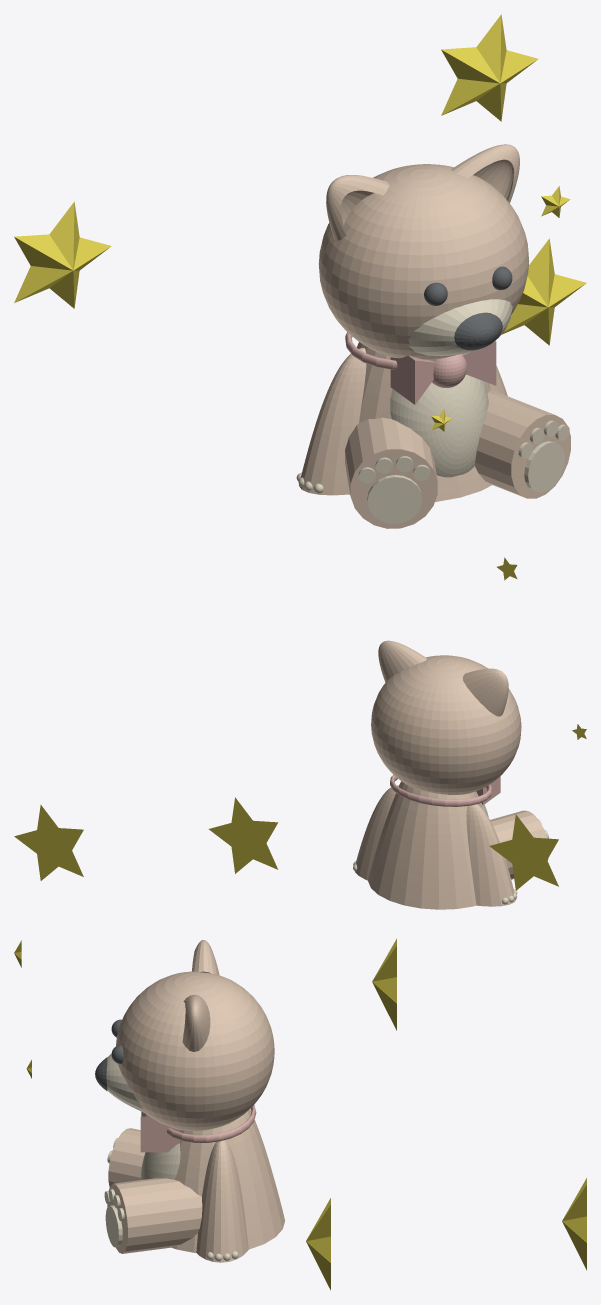
Rendered from Exquisite Jaagub-2.glb.
3 renders of one model, top to bottom at view 1: azimuth 30°, elevation 25°; view 2: azimuth 150°, elevation 25°; view 3: azimuth 270°, elevation 25°, orthographic. The views are drawn at different scales.
Visible parts, largest first — view 1: Mesh_Mesh_head_geo.001_lambert2SG.001; view 2: Mesh_Mesh_head_geo.001_lambert2SG.001; view 3: Mesh_Mesh_head_geo.001_lambert2SG.001.
Part boxes in pixels (x1,y1,x2,y2): Mesh_Mesh_head_geo.001_lambert2SG.001: (14,14,586,528); Mesh_Mesh_head_geo.001_lambert2SG.001: (14,557,586,909); Mesh_Mesh_head_geo.001_lambert2SG.001: (14,938,586,1290).
Size of the model in its own units: 144 by 78 by 139.
